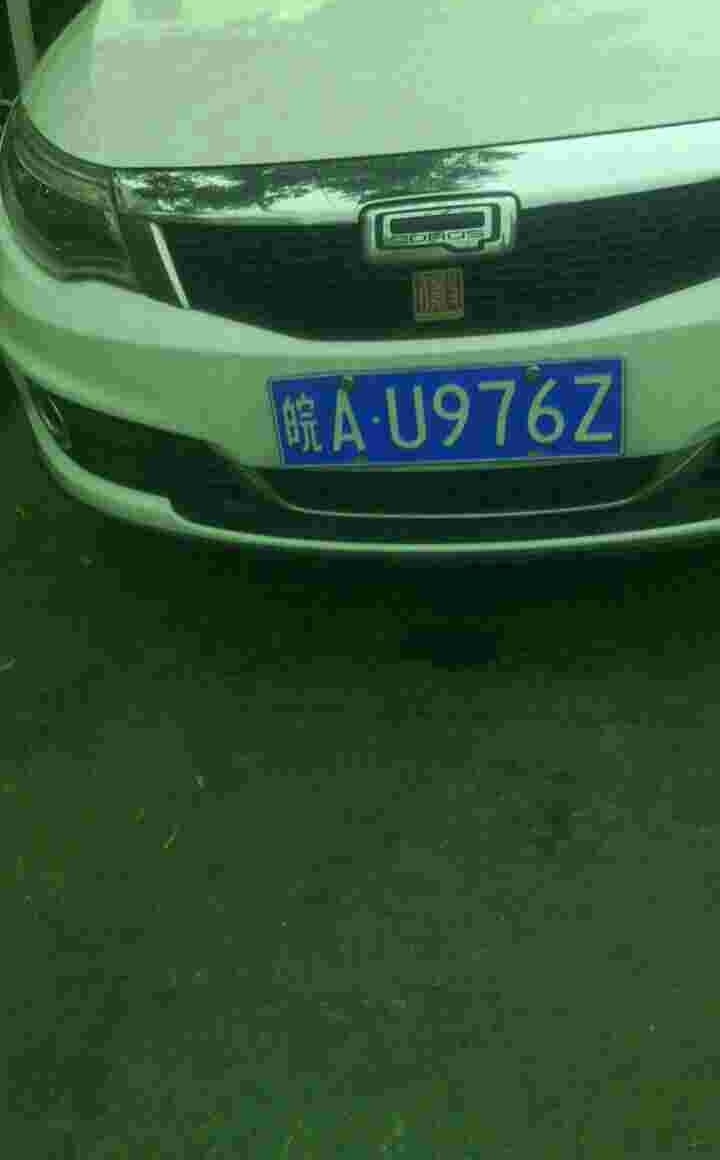license_plate: (256, 360, 638, 478)
